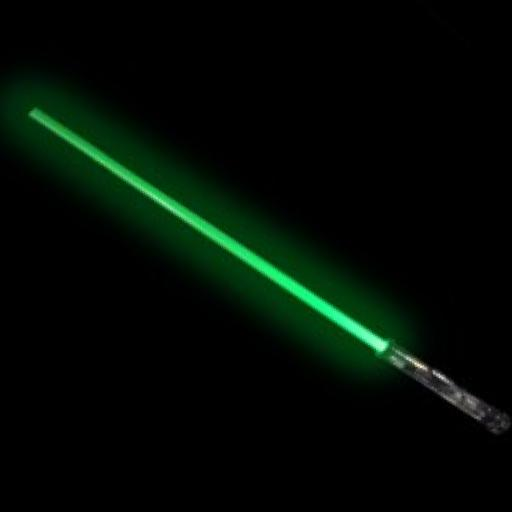lightsaber: (25, 21, 504, 512)
